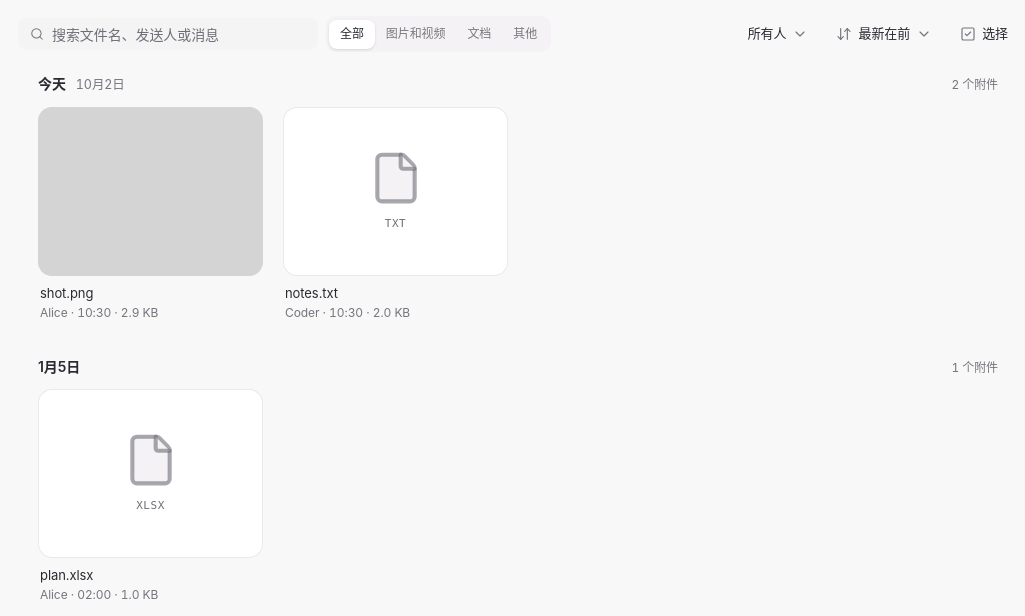
it: the attachments tab › narrows by kind, sender and words, and sorts
Expected: the text "shot.png" is shown, [40,284,93,300]
Click the tab "图片和视频": click(416, 34) [375,20,456,48]
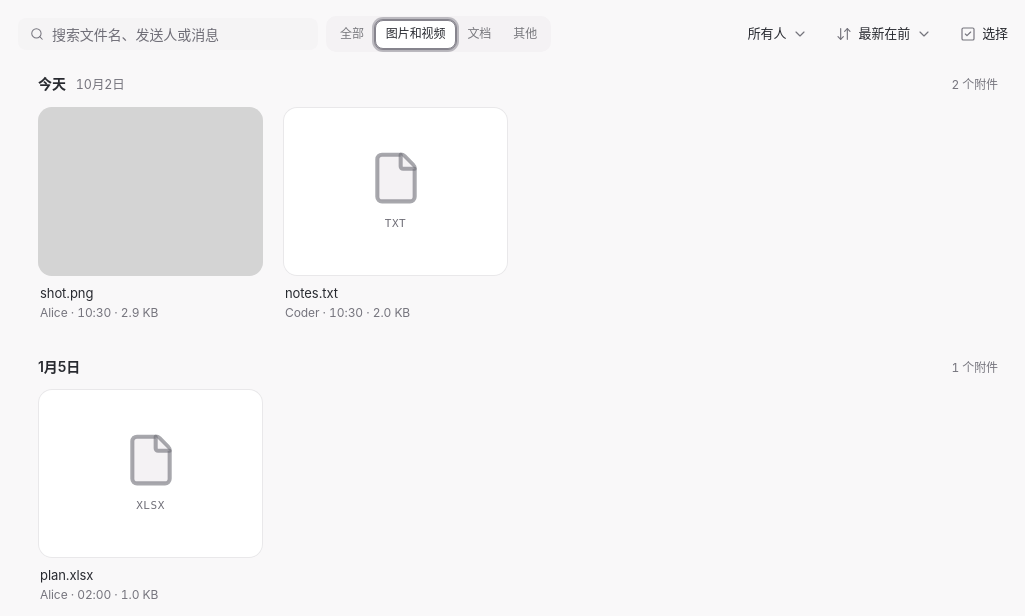
Click the button with aria-label "发送人: 所有人": click(778, 34) [738,19,818,49]
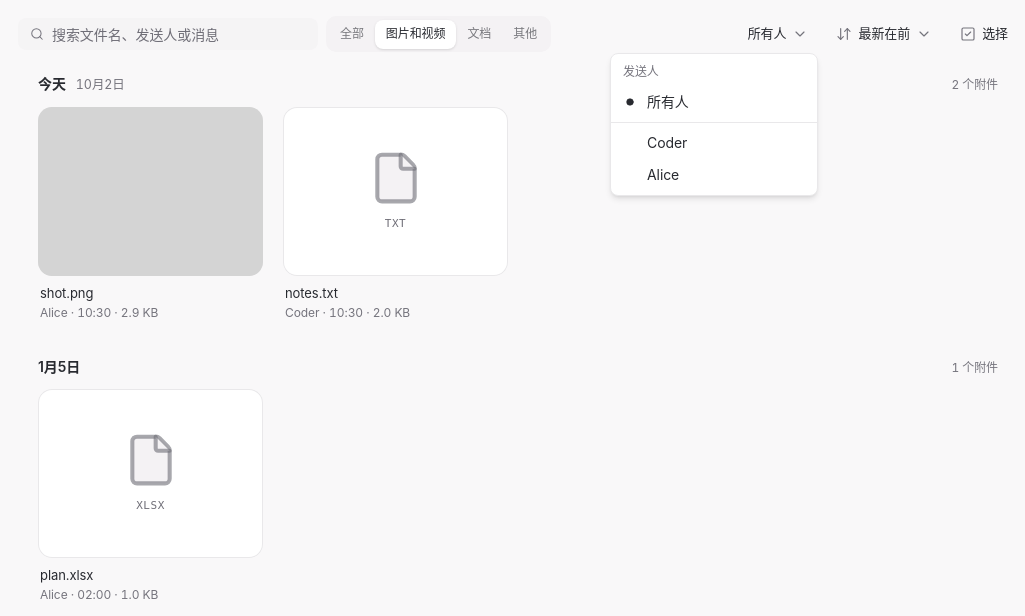
Click the menu item "Coder": click(667, 142) [647,134,687,151]
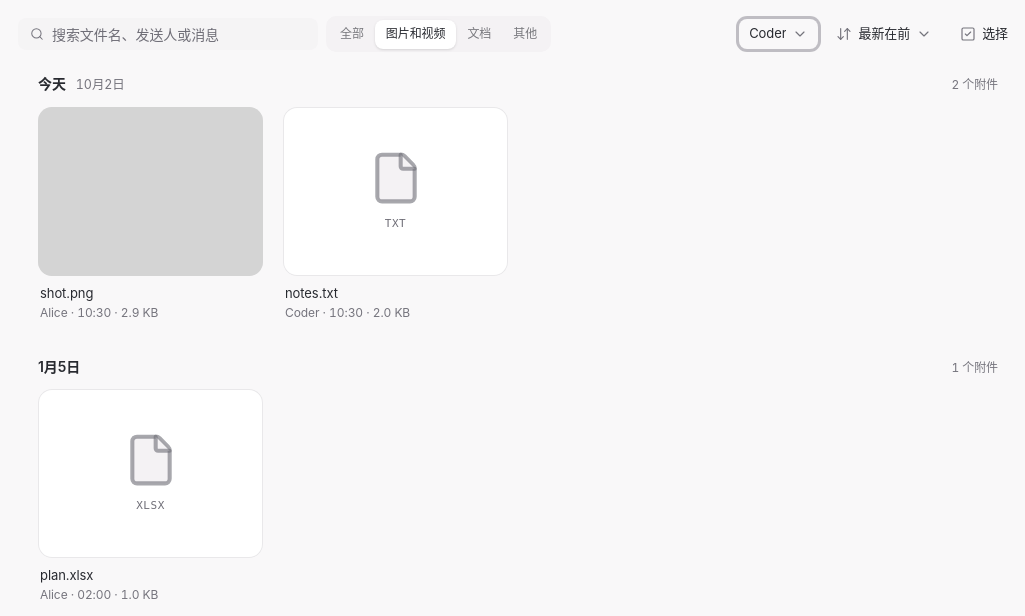
In the search field named "搜索附件": (181, 34) [44,16,318,52], type "标签 需求"
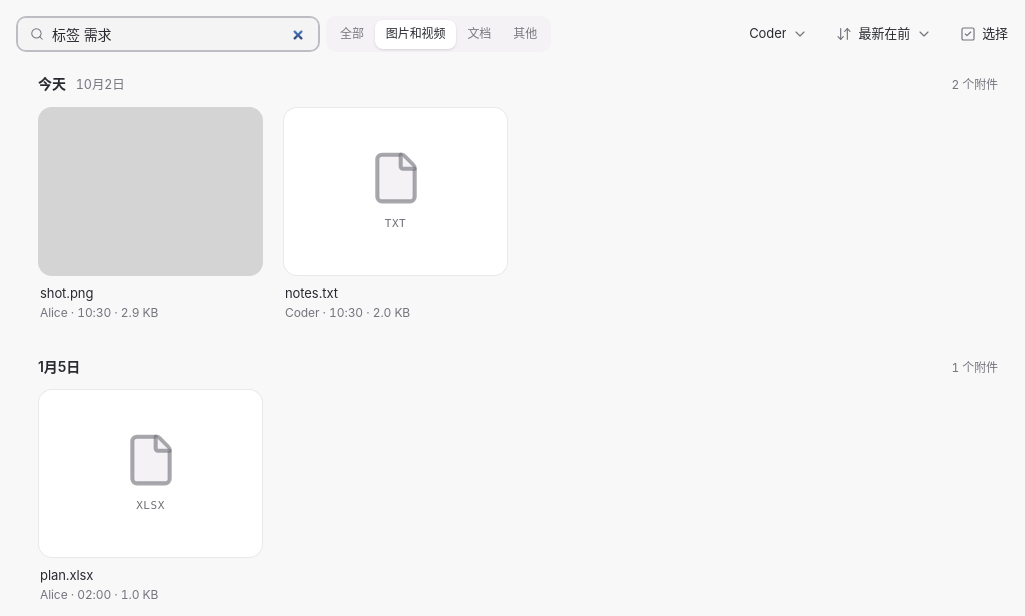
Click the button with aria-label "排序: 最新在前": click(884, 34) [826,19,942,49]
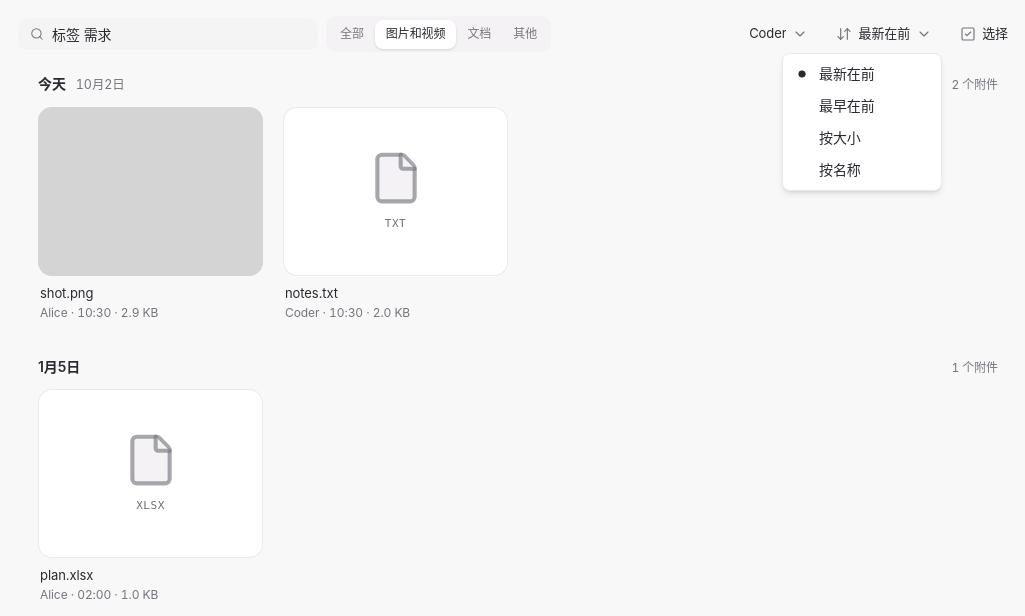
Click the menu item "按大小": click(840, 138) [819,129,861,146]
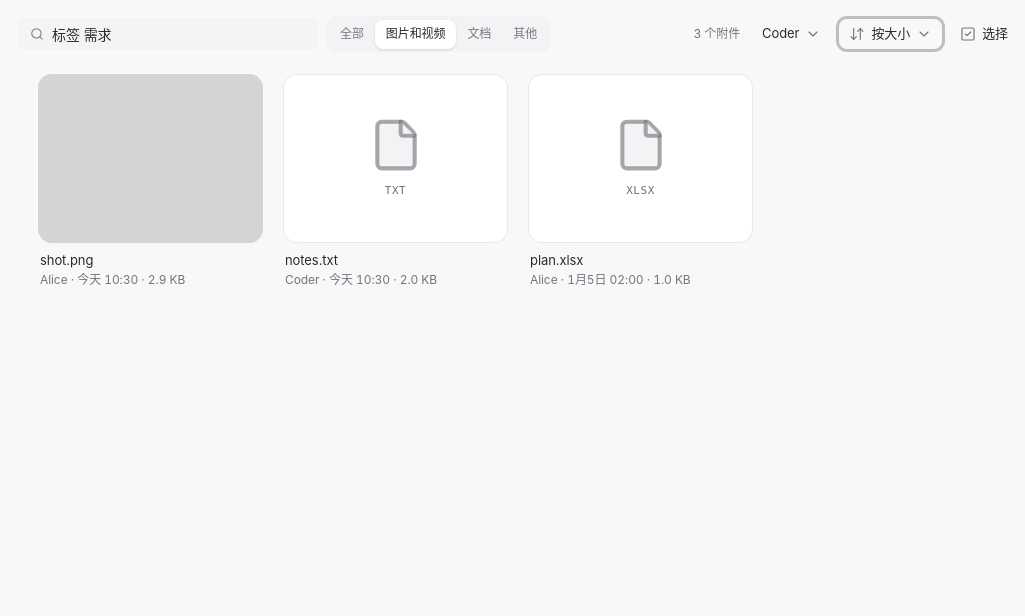
Expected: the text "3 个附件" is shown, [690,26,744,42]
Expected: the text "Alice · 今天 10:30 · 2.9 KB" is shown, [40,272,185,287]
